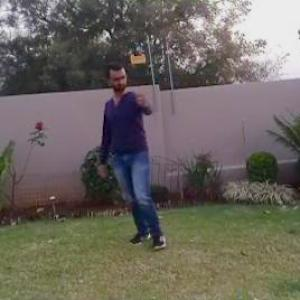takeoff-hand: (128, 85, 156, 112)
